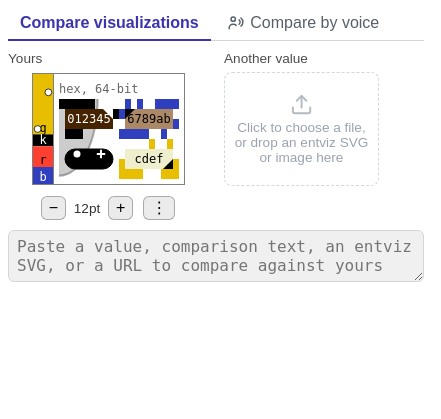
it: EntvizCompare › reference: a placeholder holds the slot until a value is given; inputs sit below the figure
# once a value arrives, the placeholder gives way to the re-rendered figure
Replace the text in the text box labelled "Paste" with "0123456789abcdef" at (216, 256), box 8,230 -> 424,282
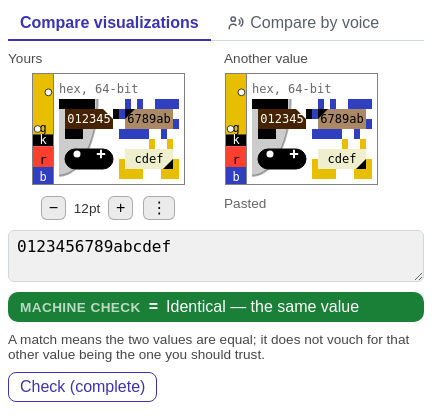
Expected: the file field "drop an entviz SVG or image here" is gone
Expected: the number of pictures is 2, 30,72 -> 186,190; 224,72 -> 379,186
